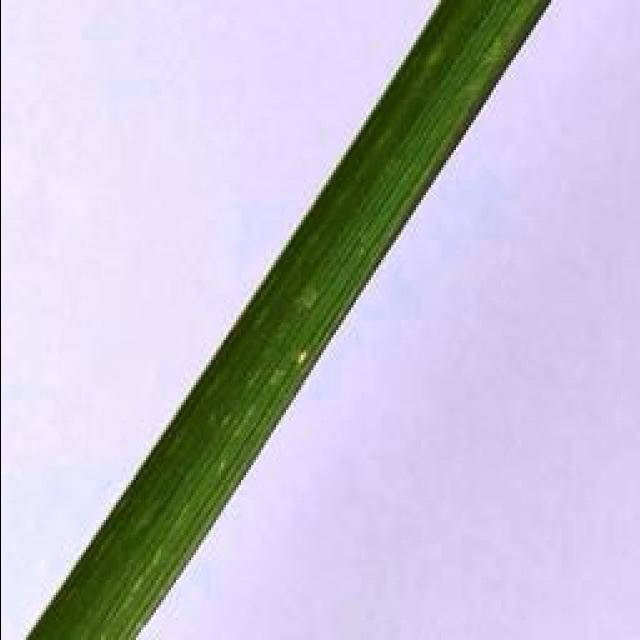Unhealthy: (293, 350, 310, 368)
